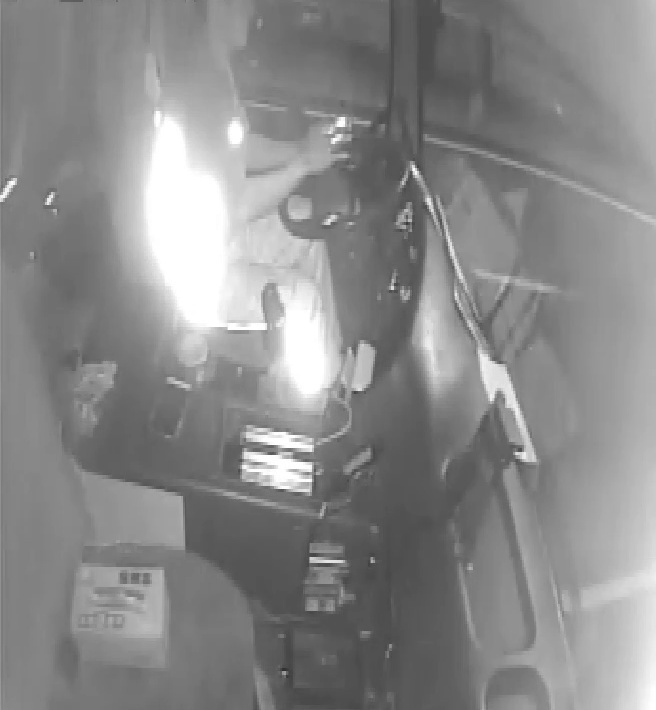cellphone: (313, 113, 353, 156)
